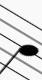B: (1, 3, 41, 79)
